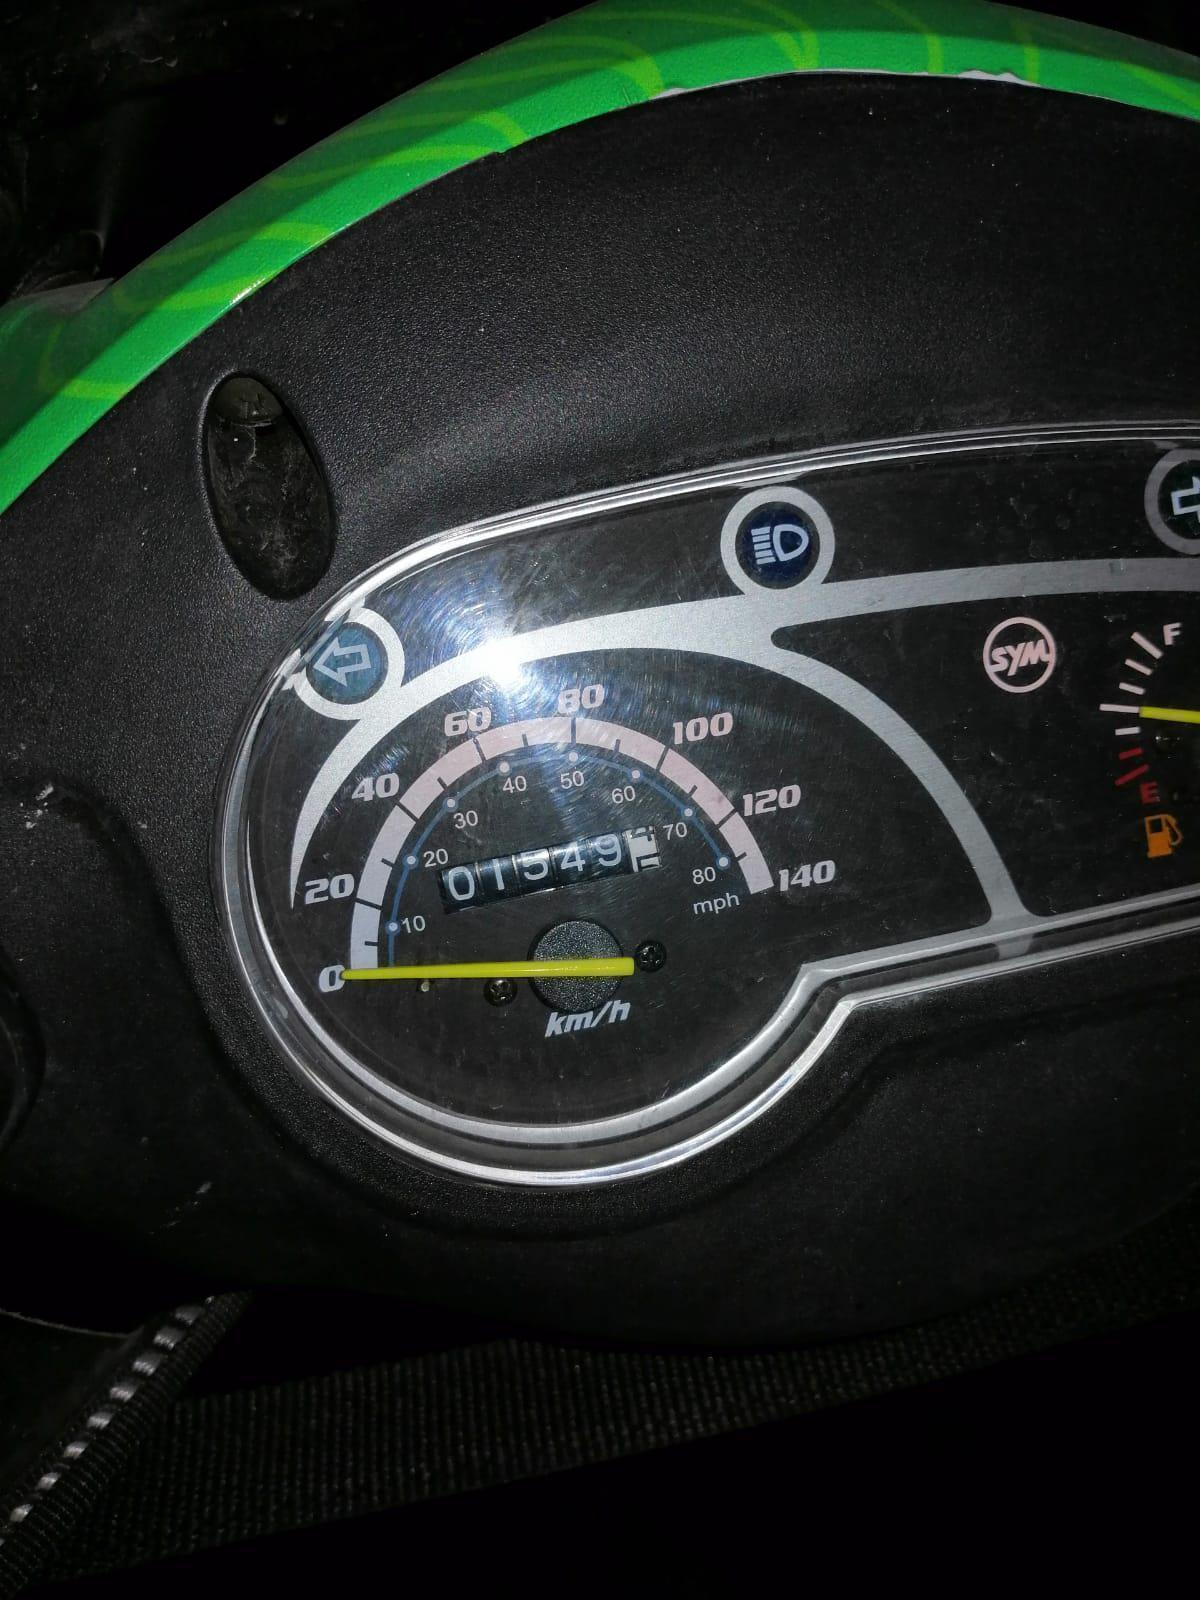0: (444, 866, 476, 905), (436, 842, 450, 866)
1: (484, 850, 508, 894)
4: (556, 837, 587, 878), (630, 814, 657, 847)
5: (518, 844, 552, 882)
9: (595, 830, 624, 868)
odometer: (434, 823, 663, 916)
